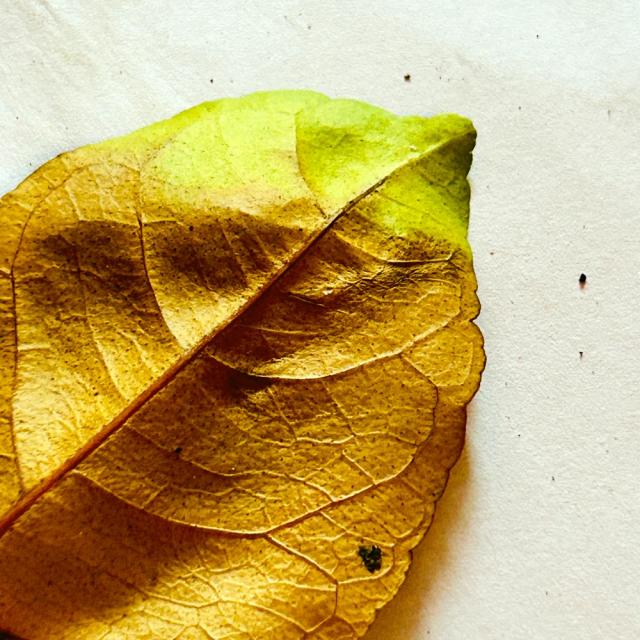DryLeaf_Lemon: (0, 93, 483, 639)
